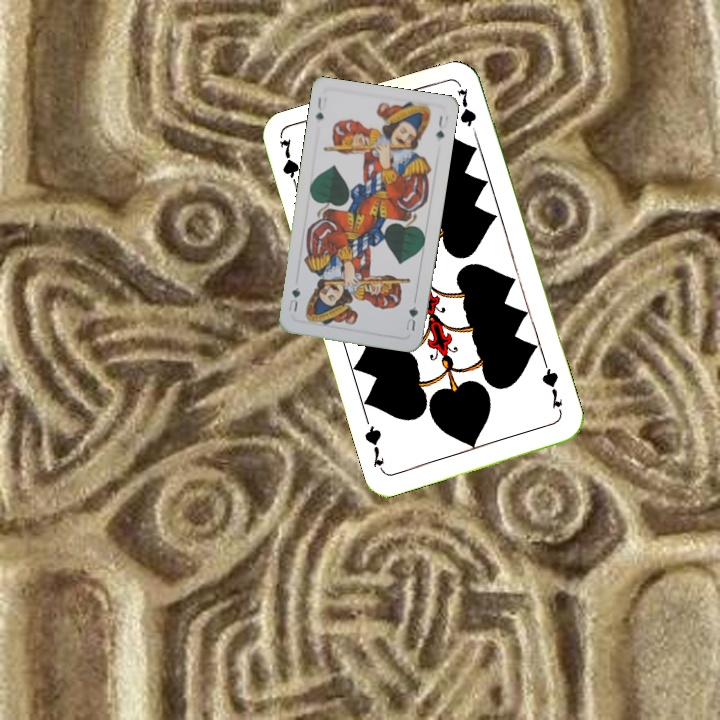G7: (538, 360, 566, 418), (275, 135, 302, 195)
GU: (402, 302, 421, 333), (312, 93, 329, 123)
